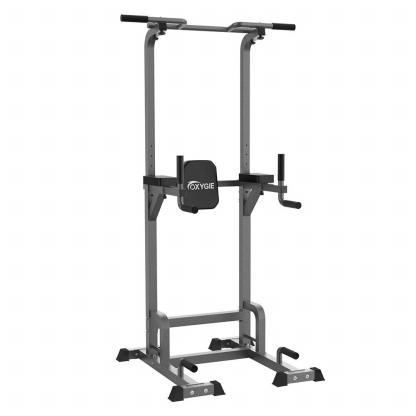chinning dipping: (116, 11, 327, 403)
